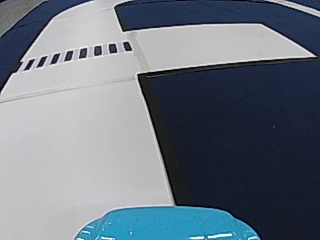CrossWalk: (20, 41, 135, 68)
